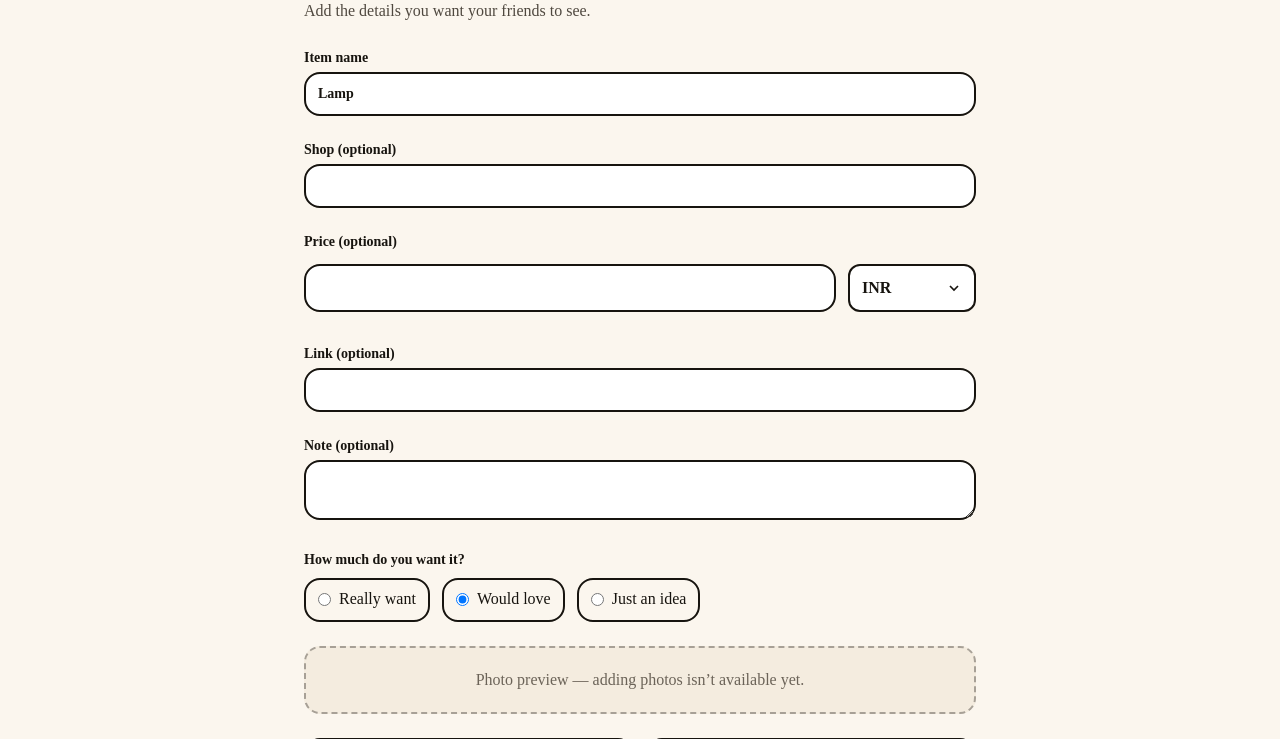
Test: ItemForm price intent › retains a rejected replacement amount and intent
Step 1. Type "99999999999999999999" into the field named "Price" → (570, 288), box [304,264,836,312]
(page scrolled)
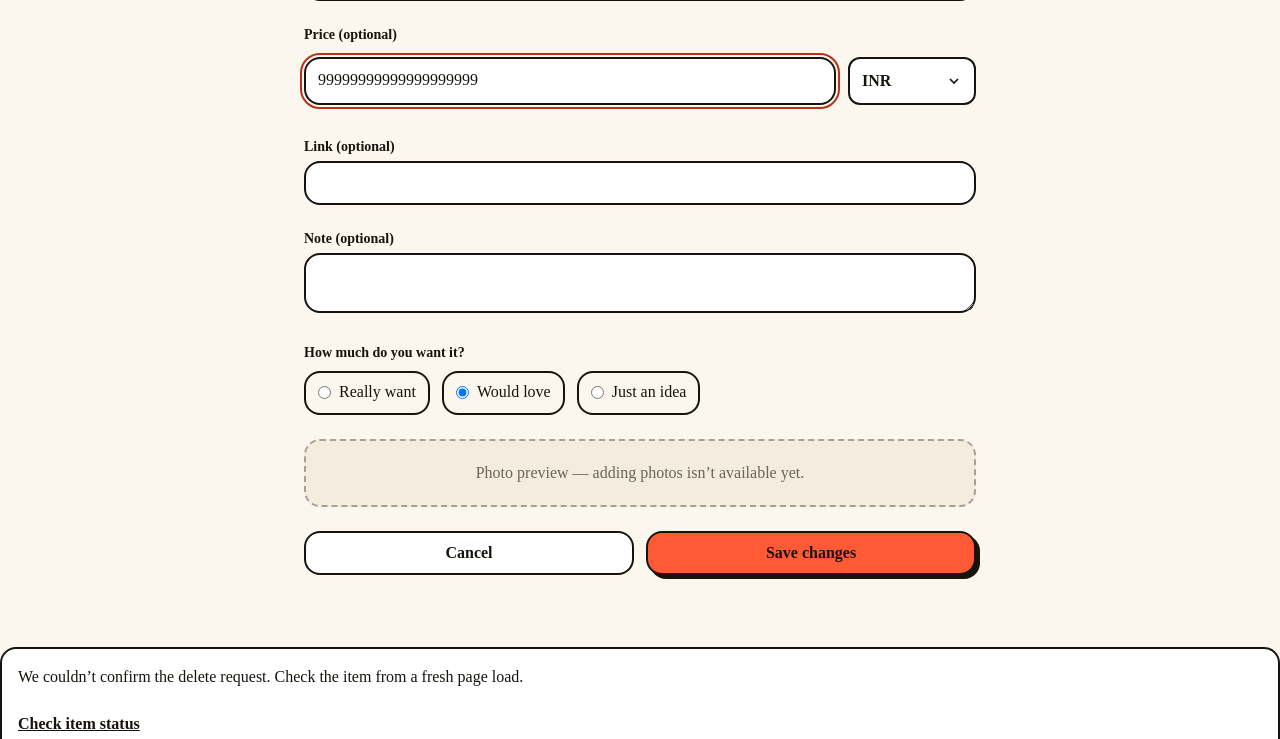
Step 2. Click the button "Save changes" → (811, 554), box [646,532,976,576]
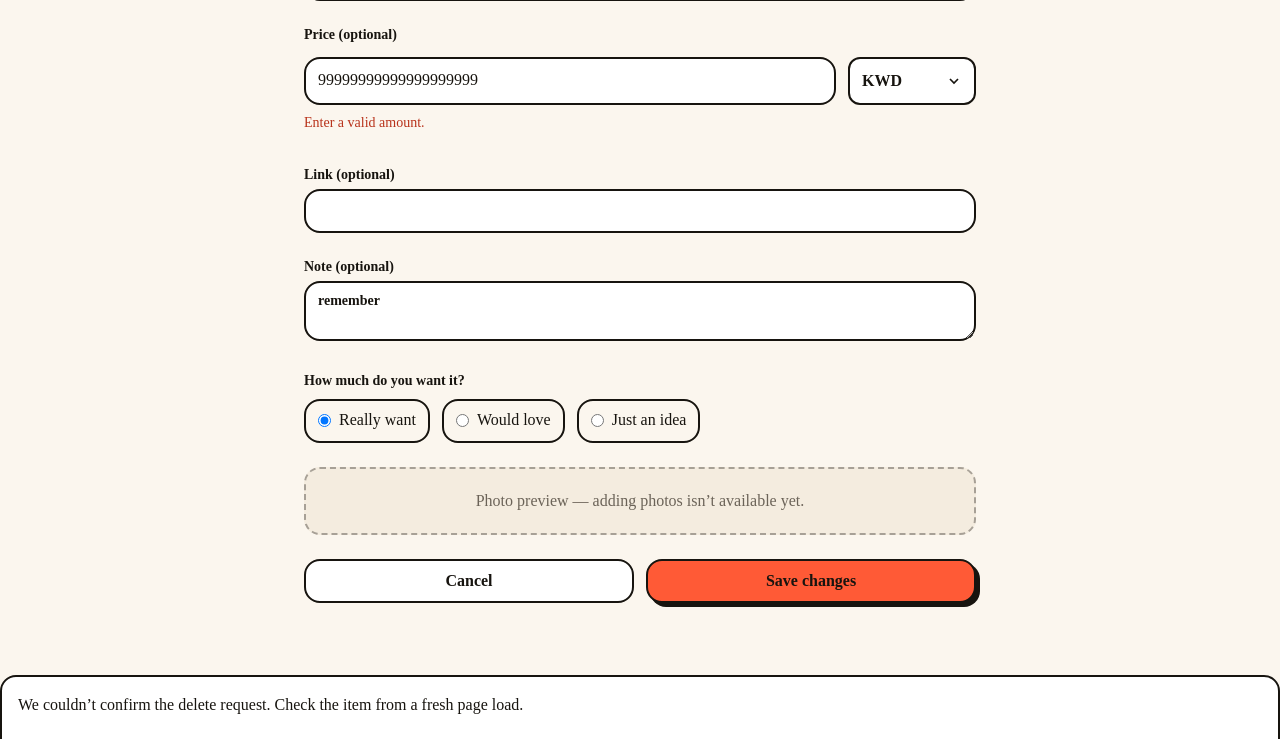
Expected: the field named "Price" holds "99999999999999999999", [304,57,836,105]
Expected: the text "Enter a valid amount." is shown, [304,115,424,130]
Expected: the text box labelled "Note (optional)" holds "remember", [304,281,976,341]
